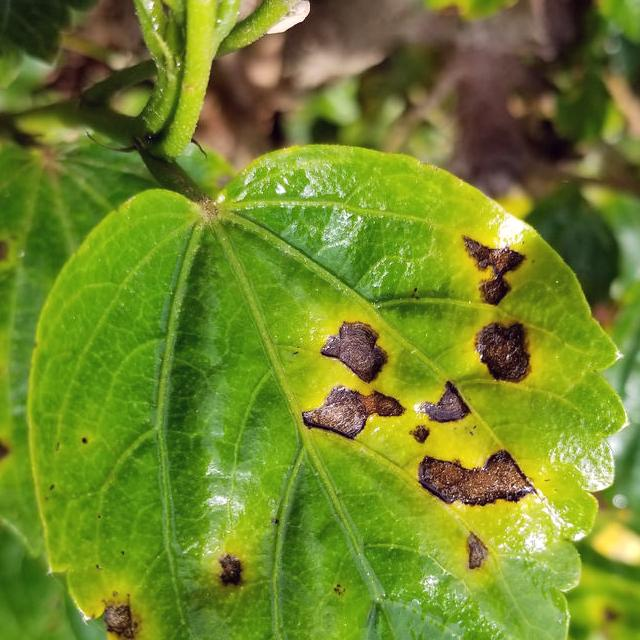Tomato leaf bacterial spot: (37, 143, 640, 640)
